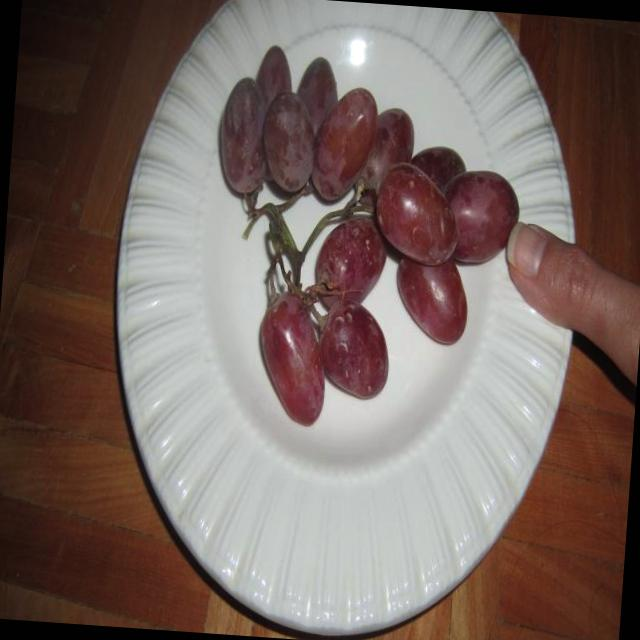Finger: (494, 211, 622, 340)
Grapes: (180, 37, 513, 450)
